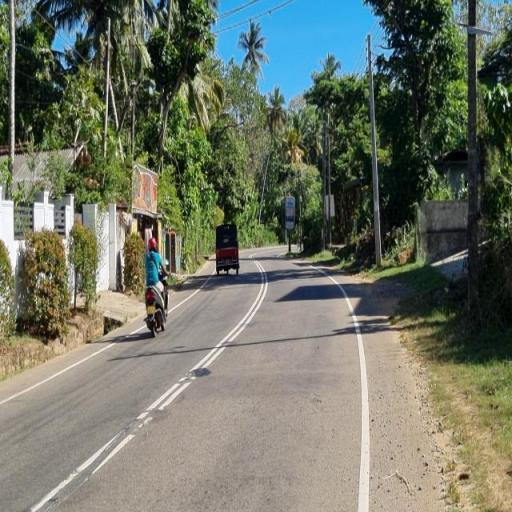double_white_line: (138, 260, 269, 426)
